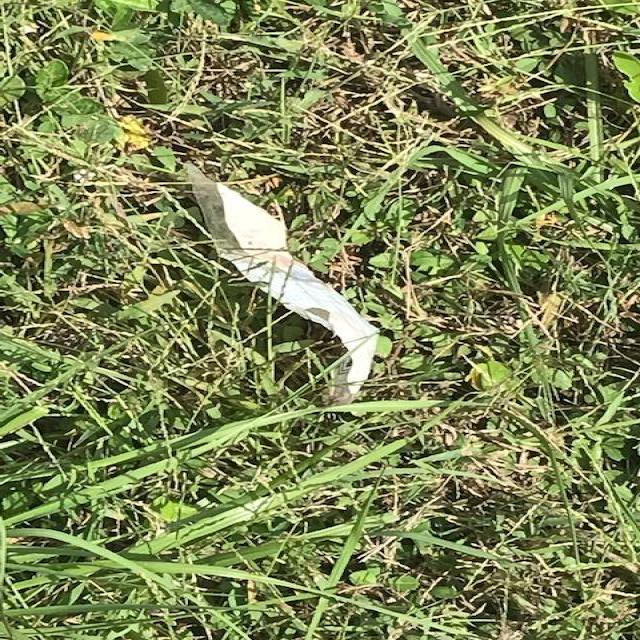litter: (213, 196, 528, 346)
